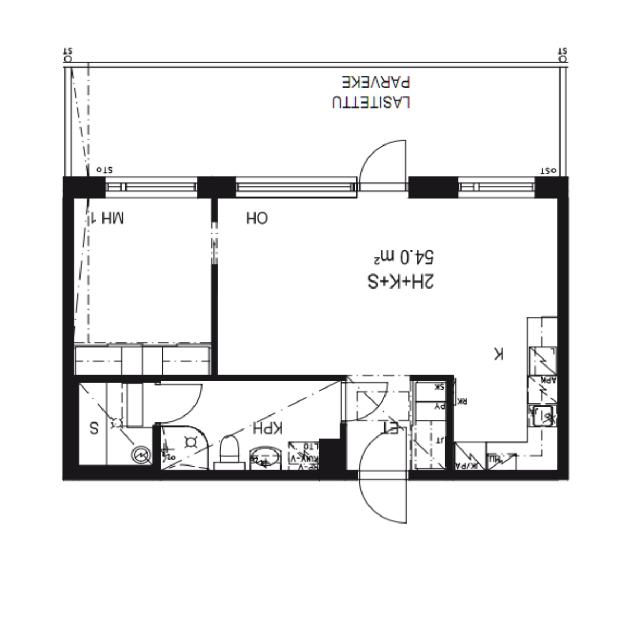door: (360, 135, 405, 198), (360, 426, 406, 481), (360, 470, 406, 524), (340, 382, 388, 422), (153, 383, 202, 422)
